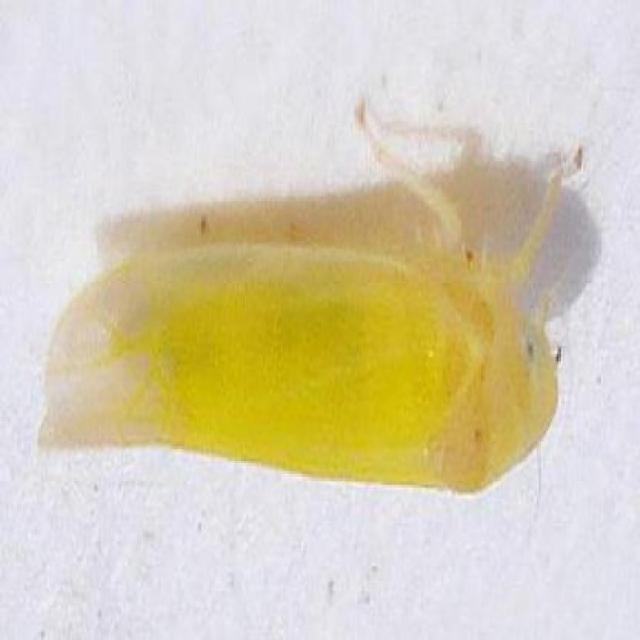green-leafhopper: (38, 90, 584, 487)
